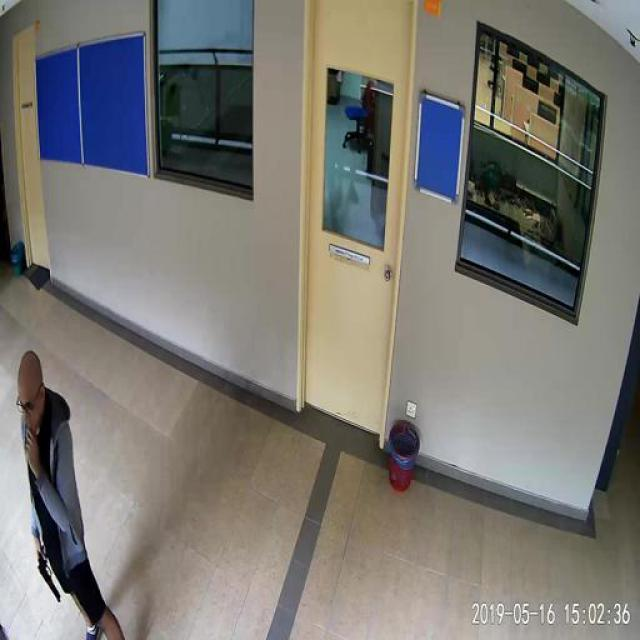Gun: (36, 552, 58, 598)
